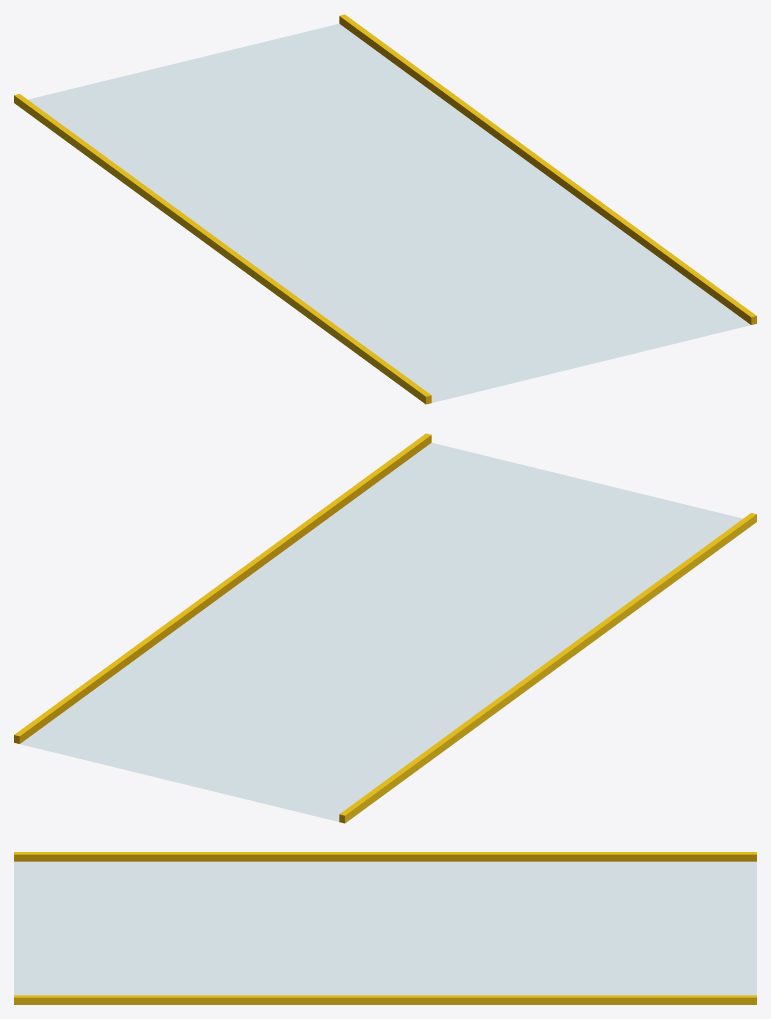
Rendered from TrackFloor.glb.
3 renders of one model, top to bottom at view 1: azimuth 30°, elevation 25°; view 2: azimuth 150°, elevation 25°; view 3: azimuth 270°, elevation 25°, orthographic. The views are drawn at different scales.
Parts seen in each view (by area): view 1: Plane_flat; view 2: Plane_flat; view 3: Plane_flat.
Part boxes in pixels (left/top/right/bottom): Plane_flat: left=14, top=14, right=756, bottom=404; Plane_flat: left=14, top=433, right=756, bottom=823; Plane_flat: left=14, top=852, right=756, bottom=1004.
Size of the model in its own units: 11.79 by 0.2652 by 25.4.
Materials: 1 (1 with a texture image).
